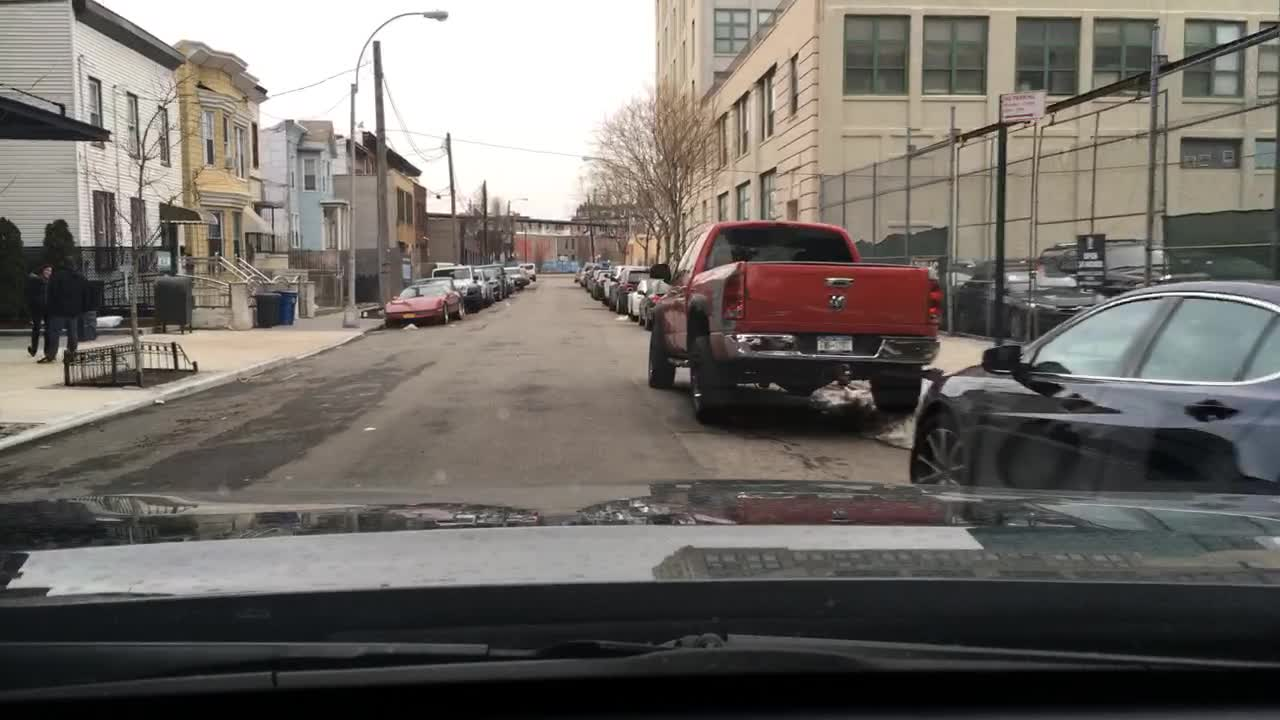car: (906, 280, 1279, 496), (955, 258, 1116, 344), (382, 275, 464, 322), (436, 267, 481, 312), (940, 265, 976, 312), (611, 267, 647, 310), (638, 277, 665, 327), (603, 260, 636, 300), (625, 275, 650, 316), (587, 267, 611, 300), (485, 265, 510, 295), (476, 272, 493, 305), (518, 260, 539, 282), (582, 260, 598, 287), (510, 265, 528, 287), (571, 265, 584, 283)
person: (41, 253, 91, 358), (26, 265, 51, 361)
traffic sign: (998, 89, 1043, 121)
truck: (645, 218, 942, 420)
